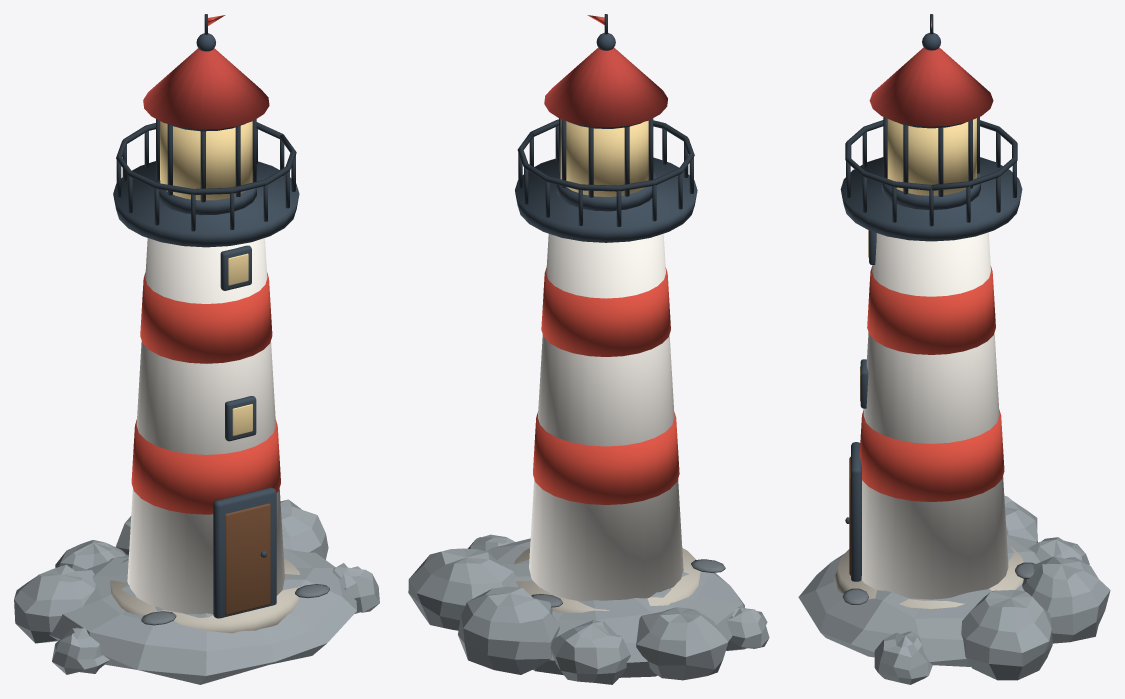
File: lighthouse-lit.glb
The picture shows the model from 3 angles, left to right: view 1: azimuth 30°, elevation 25°; view 2: azimuth 150°, elevation 25°; view 3: azimuth 270°, elevation 25°; orthographic projection. The views are drawn at different scales.
Parts seen in each view (by area): view 1: tower, rock, gallery, lantern, roof; view 2: tower, rock, gallery, lantern, roof; view 3: tower, rock, gallery, lantern, roof.
Part boxes in pixels (x1,y1,x2,y2): tower: (127,238,284,618); rock: (14,499,379,684); gallery: (113,122,299,247); lantern: (155,119,256,215); roof: (143,14,269,129); tower: (529,233,683,600); rock: (408,534,769,684); gallery: (515,119,697,242); lantern: (556,118,655,211); roof: (544,14,667,127); tower: (845,230,1008,599); rock: (798,495,1110,684); gallery: (840,120,1022,241); lantern: (882,117,980,209); roof: (869,14,993,126).
Bounding box in the file's own units: 2.57 × 4.81 × 2.27.
